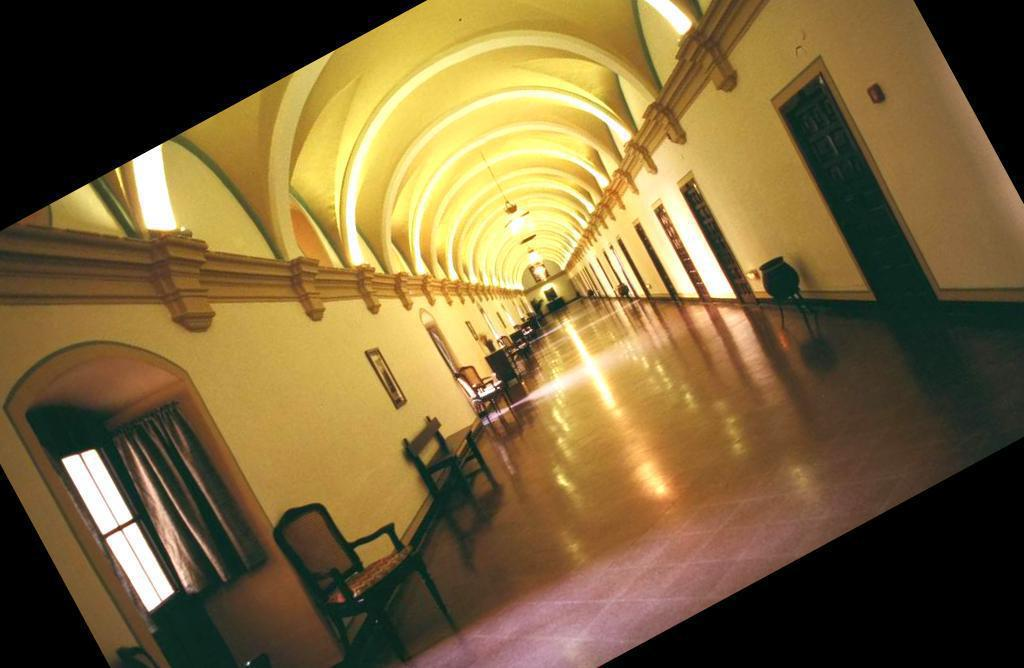Otro Obstaculo: (741, 240, 844, 352)
Puerta: (35, 400, 252, 668), (779, 85, 941, 324), (682, 179, 763, 309), (651, 203, 711, 302), (632, 219, 683, 302)
